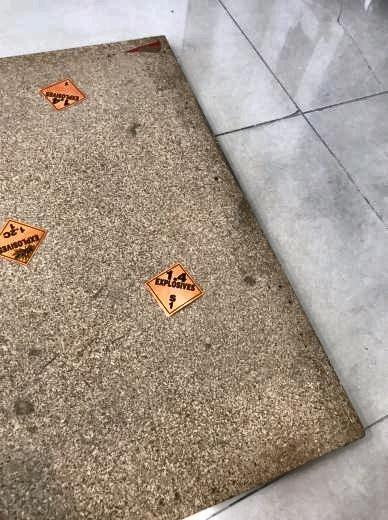explosive: (146, 263, 204, 315), (1, 217, 48, 265), (40, 79, 88, 112)
